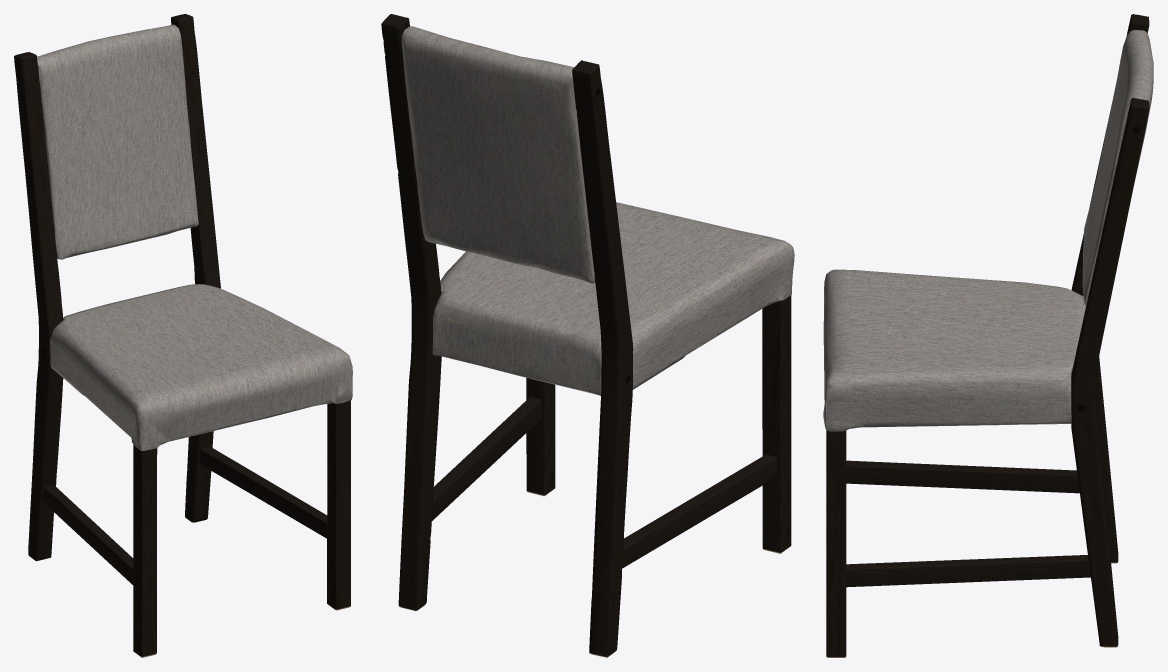
3 renders of one model, left to right at view 1: azimuth 30°, elevation 25°; view 2: azimuth 150°, elevation 25°; view 3: azimuth 270°, elevation 25°, orthographic. The views are drawn at different scales.
Visible parts, largest first — view 1: 80512087-STEFAN001; view 2: 80512087-STEFAN001; view 3: 80512087-STEFAN001.
Boxes of the visible parts, x1,y1,x2,y2 form: 80512087-STEFAN001: [14, 14, 352, 657]; 80512087-STEFAN001: [381, 14, 794, 657]; 80512087-STEFAN001: [823, 14, 1153, 657].
Size of the model in its own units: 0.4117 by 0.9003 by 0.4972.
1 material, 1 textured.
